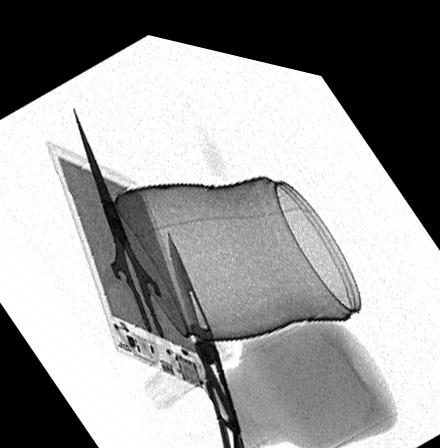Knife: (166, 214, 253, 448)
Powerbank: (42, 134, 215, 385)
Scissors: (66, 96, 205, 380)
